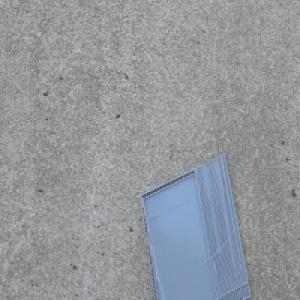PlasticPart: (139, 151, 252, 300)
